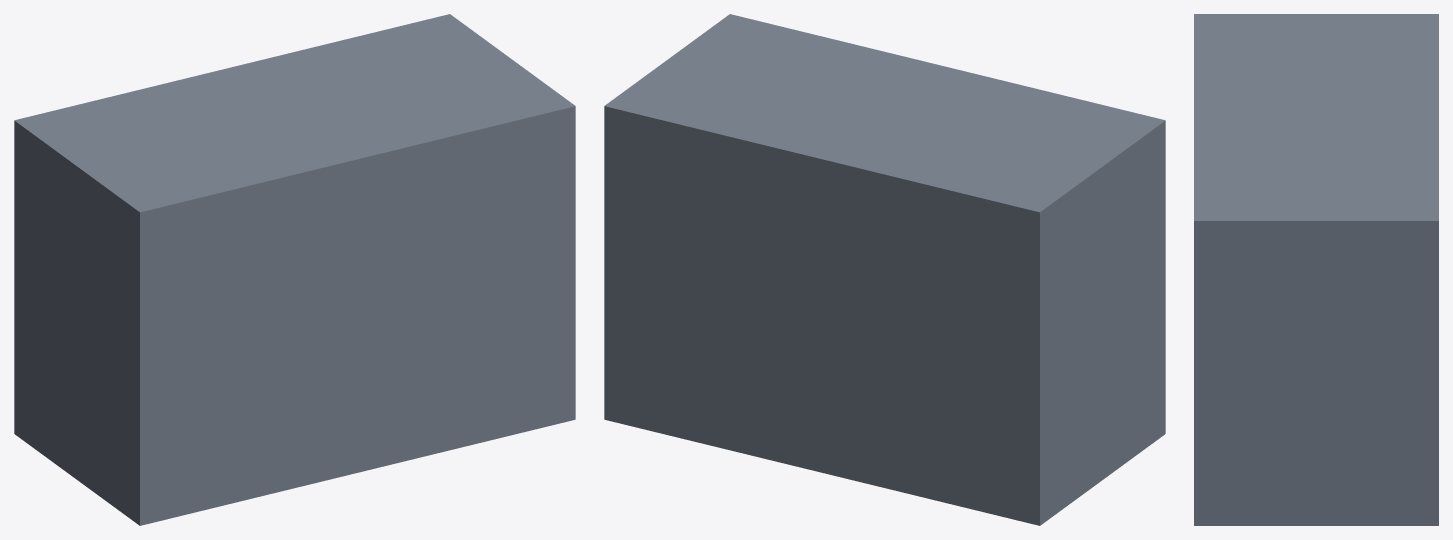
File: gpu_rig.glb
The picture shows the model from 3 angles, left to right: view 1: azimuth 30°, elevation 25°; view 2: azimuth 150°, elevation 25°; view 3: azimuth 270°, elevation 25°; orthographic projection. The views are drawn at different scales.
Parts seen in each view (by area): view 1: frame_0; view 2: frame_0; view 3: frame_0.
Part boxes in pixels (<box>): frame_0: <box>14,14,575,525</box>; frame_0: <box>604,14,1165,525</box>; frame_0: <box>1194,14,1438,525</box>.
Size of the model in its own units: 0.8 by 0.55 by 0.4.
